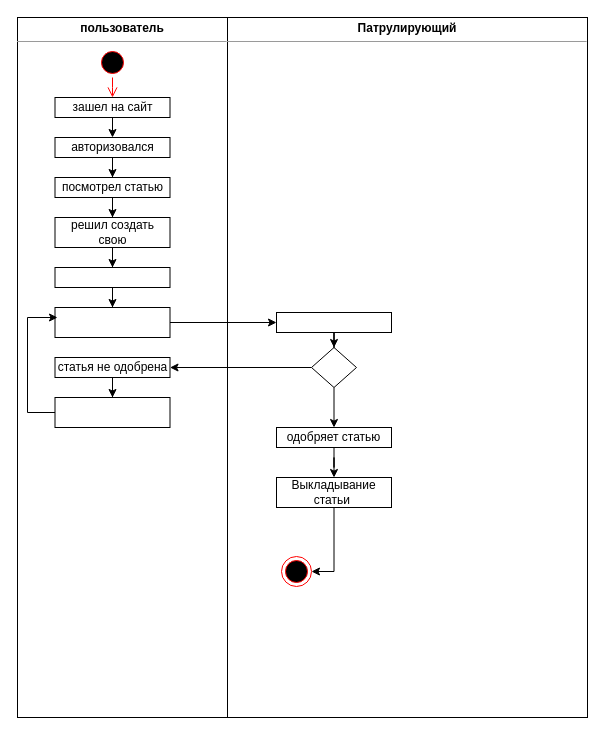
This 605x735 diagram has some shape labels left out. Here are the shapes that lost their labels. From the top down, the centre of each, then its label:
pixel 112 277: создал статью
pixel 112 322: отправить на проверку
pixel 334 322: проверка статьи
pixel 112 412: редактировать статью
